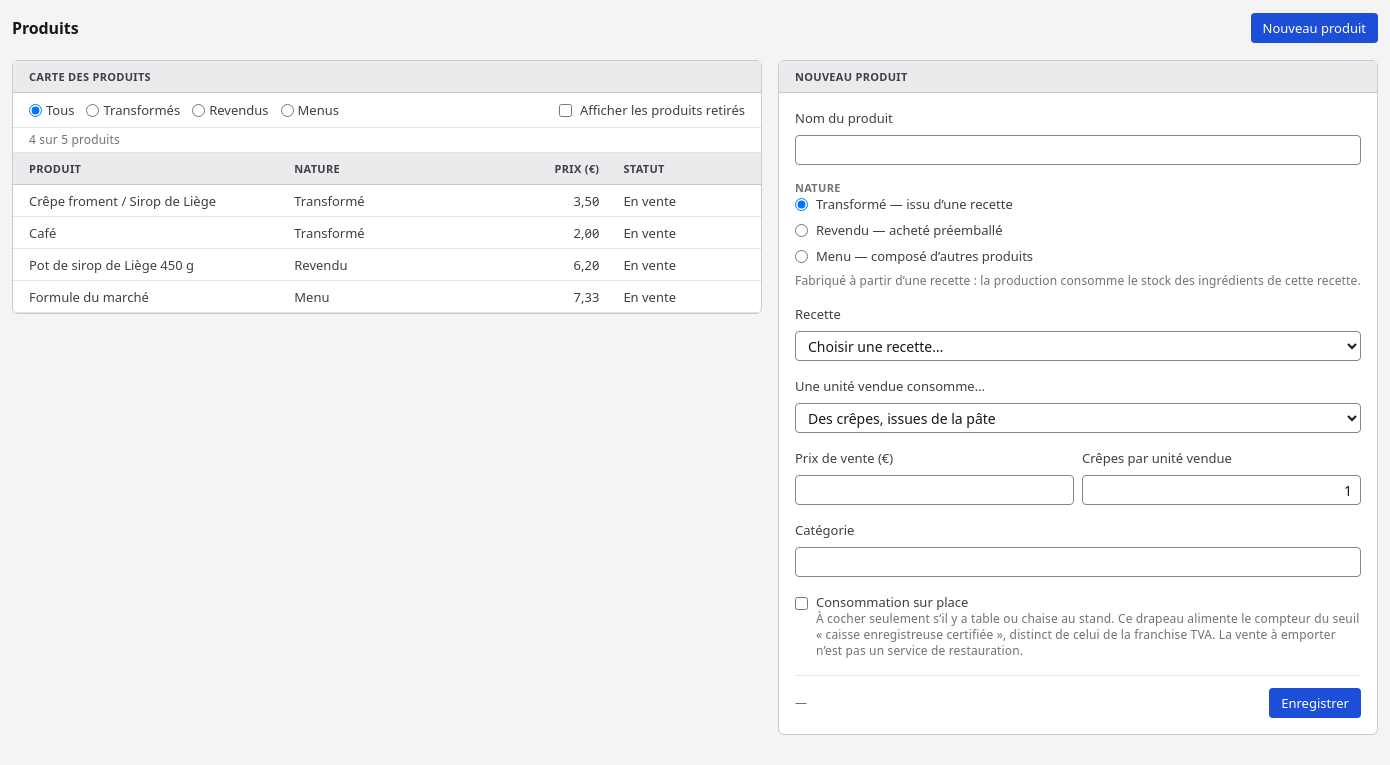
Test: Produits — les trois natures › un MENU ne prétend pas avoir un coût de revient propre : il renvoie à l’écran Menus
Click the row "Formule du marché Menu 7,33 En vente". click: click(387, 297)
box: [13,281,761,313]
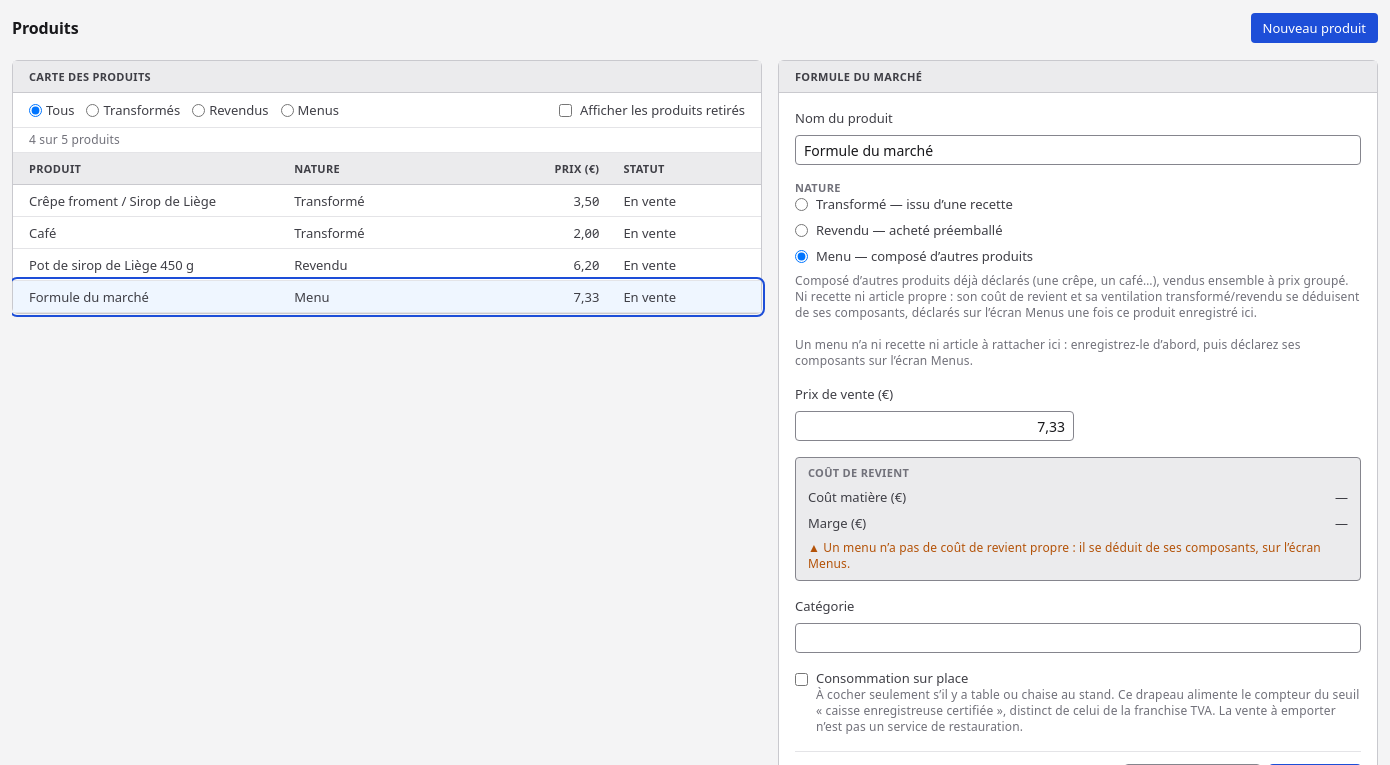
Expected: the message shows "se déduit de ses composants", [808,539,1321,572]
Expected: the message shows "Menus", [808,539,1321,572]
